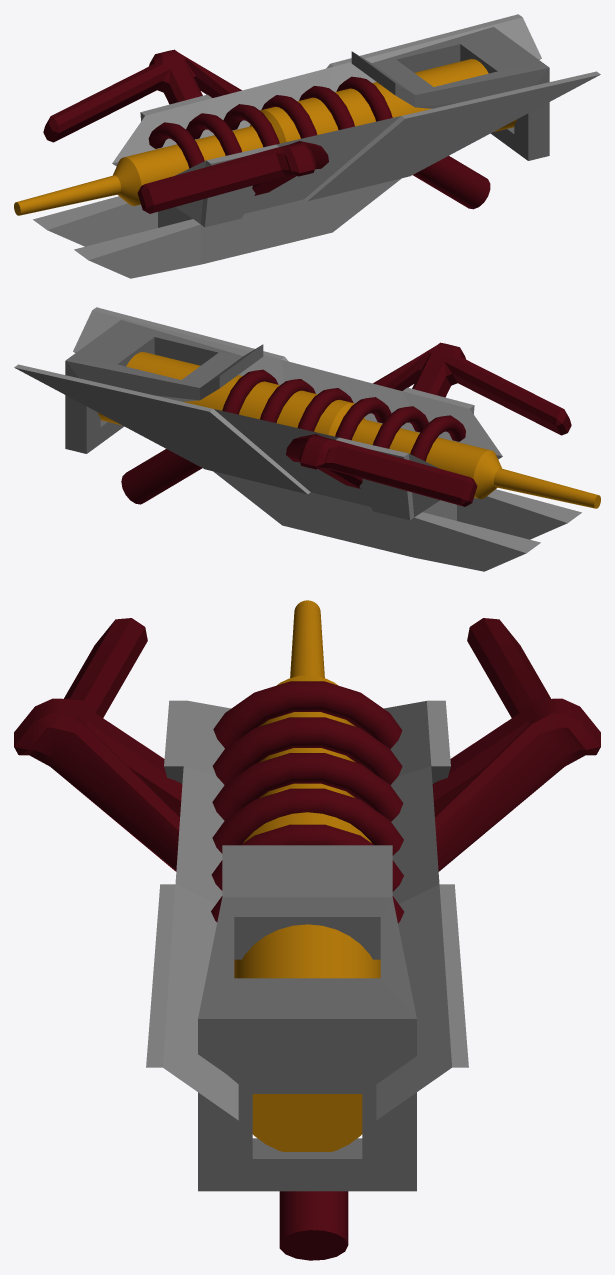
The model's file is Taser.fbx.
3 views of the same model, one above another, from view 1: azimuth 30°, elevation 25°; view 2: azimuth 150°, elevation 25°; view 3: azimuth 270°, elevation 25° (orthographic). The views are drawn at different scales.
Visible parts, largest first — view 1: Cube, Cube.001, Cube.002, Cylinder, Torus, Cylinder.001; view 2: Cube, Cube.001, Cube.002, Cylinder, Torus, Cylinder.001; view 3: Cube.002, Cube, Cube.001, Torus, Cylinder, Cylinder.001.
Part boxes in pixels (left/top/right/bottom): Cube: left=33, top=14, right=600, bottom=278; Cube.001: left=43, top=49, right=328, bottom=213; Cube.002: left=351, top=27, right=549, bottom=160; Cylinder: left=14, top=59, right=517, bottom=215; Torus: left=148, top=76, right=392, bottom=168; Cylinder.001: left=413, top=156, right=490, bottom=209; Cube: left=14, top=307, right=581, bottom=571; Cube.001: left=286, top=342, right=571, bottom=506; Cube.002: left=65, top=320, right=263, bottom=453; Cylinder: left=97, top=352, right=600, bottom=508; Torus: left=222, top=369, right=465, bottom=461; Cylinder.001: left=121, top=449, right=202, bottom=504; Cube.002: left=198, top=845, right=416, bottom=1191; Cube: left=146, top=700, right=468, bottom=1120; Cube.001: left=14, top=618, right=600, bottom=871; Torus: left=211, top=681, right=403, bottom=923; Cylinder: left=234, top=600, right=380, bottom=1151; Cylinder.001: left=279, top=1191, right=348, bottom=1260.
Size of the model in its own units: 2.12 by 0.6257 by 1.01.
